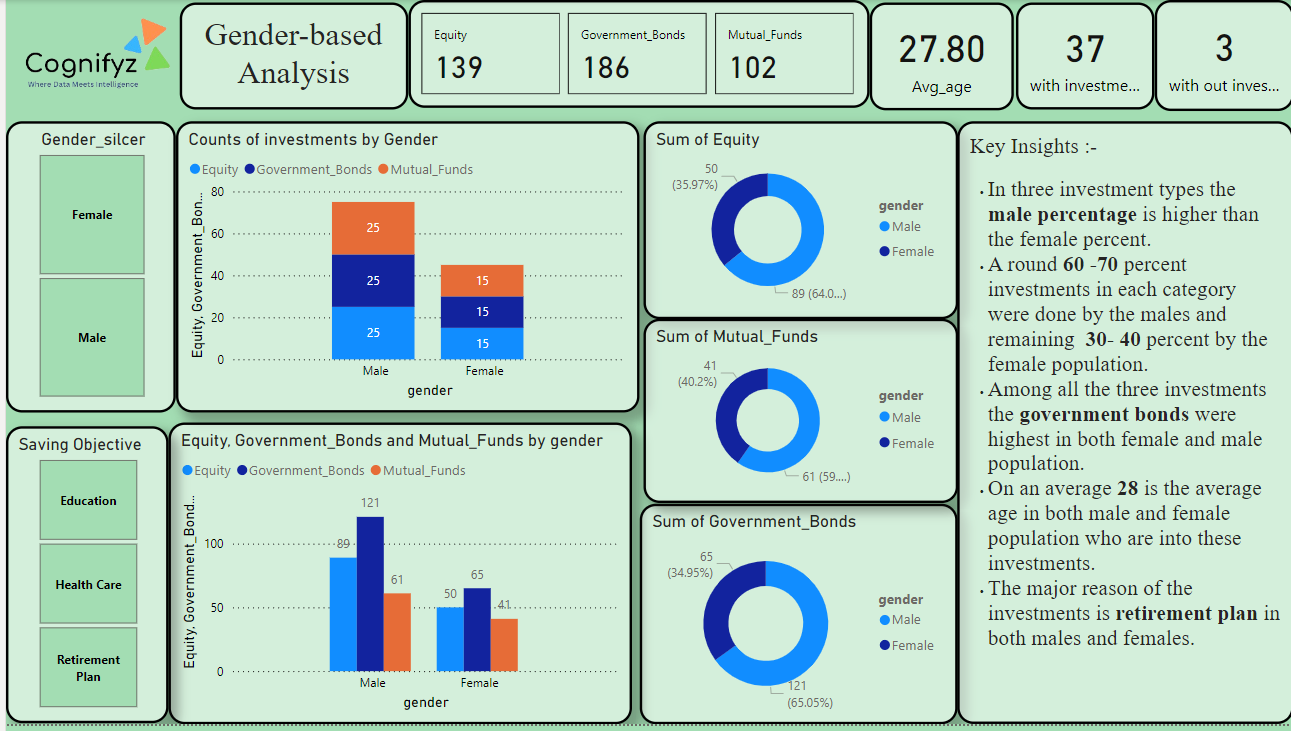

Layout of this report page (visuals, bound fields, positions):
{"tool":"powerbi","page":{"name":"Task 2","canvas":[1280,720],"ordinal":1},"visuals":[{"type":"card","fields":{"Values":["measures (2).Avg_age"]},"box":[858.3,2.3,143.4,107.3],"z":0},{"type":"card","fields":{"Values":["Data_set 2.No investment"]},"box":[1004.1,2.3,137.6,106.1],"z":1000},{"type":"card","fields":{"Values":["Data_set 2.Count of Investment_Avenues for No"]},"box":[1141.7,0,138.8,110.8],"z":2000},{"type":"slicer","title":"Gender_silcer","fields":{"Values":["Data_set 2.gender"]},"box":[0,120.1,169.1,289.2],"z":3000},{"type":"columnChart","title":"Counts of investments by Gender","fields":{"Category":["Data_set 2.gender"],"Y":["CountNonNull(Data_set 2.Equity_Market)","CountNonNull(Data_set 2.Government_Bonds)","CountNonNull(Data_set 2.Mutual_Funds)"]},"box":[169.1,120.1,460.6,289.2],"z":4000},{"type":"cardVisual","fields":{"Data":["Sum(Data_set 2.Equity_Market)","Sum(Data_set 2.Government_Bonds)","Sum(Data_set 2.Mutual_Funds)"]},"box":[400,0,458.3,107.3],"z":5000},{"type":"donutChart","title":"Sum of Equity","fields":{"Category":["Data_set 2.gender"],"Y":["Sum(Data_set 2.Equity_Market)"]},"box":[633.2,120.1,312.5,197.1],"z":6000},{"type":"donutChart","title":"Sum of Government_Bonds","fields":{"Category":["Data_set 2.gender"],"Y":["Sum(Data_set 2.Government_Bonds)"]},"box":[629.7,500.3,316,219.2],"z":7000},{"type":"donutChart","title":"Sum of Mutual_Funds","fields":{"Category":["Data_set 2.gender"],"Y":["Sum(Data_set 2.Mutual_Funds)"]},"box":[633.2,317.2,312.5,183.1],"z":8000},{"type":"clusteredColumnChart","fields":{"Y":["Sum(Data_set 2.Equity_Market)","Sum(Data_set 2.Government_Bonds)","Sum(Data_set 2.Mutual_Funds)"],"Category":["Data_set 2.gender"]},"box":[162.1,419.8,460.6,299.7],"z":9000},{"type":"textbox","box":[945.8,120.1,334.7,599.4],"z":10000},{"type":"slicer","title":"Saving Objective","fields":{"Values":["Data_set 2.What are your savings objectives?"]},"box":[0,424,161.7,295.1],"z":11000},{"type":"textbox","box":[172.6,2.3,227.4,106.1],"z":12000},{"type":"image","box":[0,2.3,172.6,105],"z":13000}]}

Visuals, with their boxes in screenshot pixels (x1, y1, x2, y2), scaled from the page's 1280x720 canvas onto the 1291x731 screenshot:
card - measures (2).Avg_age: box=[866, 2, 1010, 111]
card - Data_set 2.No investment: box=[1013, 2, 1152, 110]
card - Data_set 2.Count of Investment_Avenues for No: box=[1152, 0, 1290, 112]
"Gender_silcer" slicer: box=[0, 122, 171, 416]
"Counts of investments by Gender" columnChart: box=[171, 122, 635, 416]
cardVisual - Sum(Data_set 2.Equity_Market) x Sum(Data_set 2.Government_Bonds): box=[403, 0, 866, 109]
"Sum of Equity" donutChart: box=[639, 122, 954, 322]
"Sum of Government_Bonds" donutChart: box=[635, 508, 954, 730]
"Sum of Mutual_Funds" donutChart: box=[639, 322, 954, 508]
clusteredColumnChart - Sum(Data_set 2.Equity_Market) x Sum(Data_set 2.Government_Bonds): box=[163, 426, 628, 730]
textbox: box=[954, 122, 1290, 730]
"Saving Objective" slicer: box=[0, 430, 163, 730]
textbox: box=[174, 2, 403, 110]
image: box=[0, 2, 174, 109]
